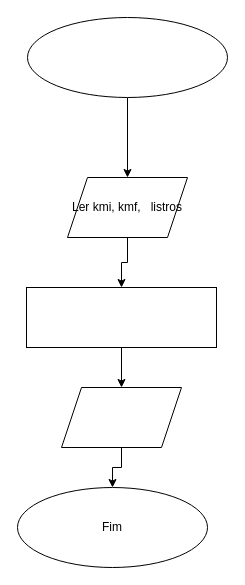
The diagram is 245 pixels wide and 585 high, and some of its shapes have lost their labels. The shapes that lost their labels are listed below. From the top down, each one's box as (x1, y1, x2, y2) in pixels, then its label:
(26, 16, 228, 98): Inicio
(26, 286, 216, 348): Litros_aos_100=litros*100(kmf-kmi
